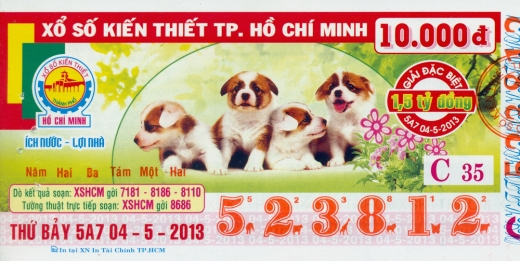serial_zone: (211, 193, 500, 245)
